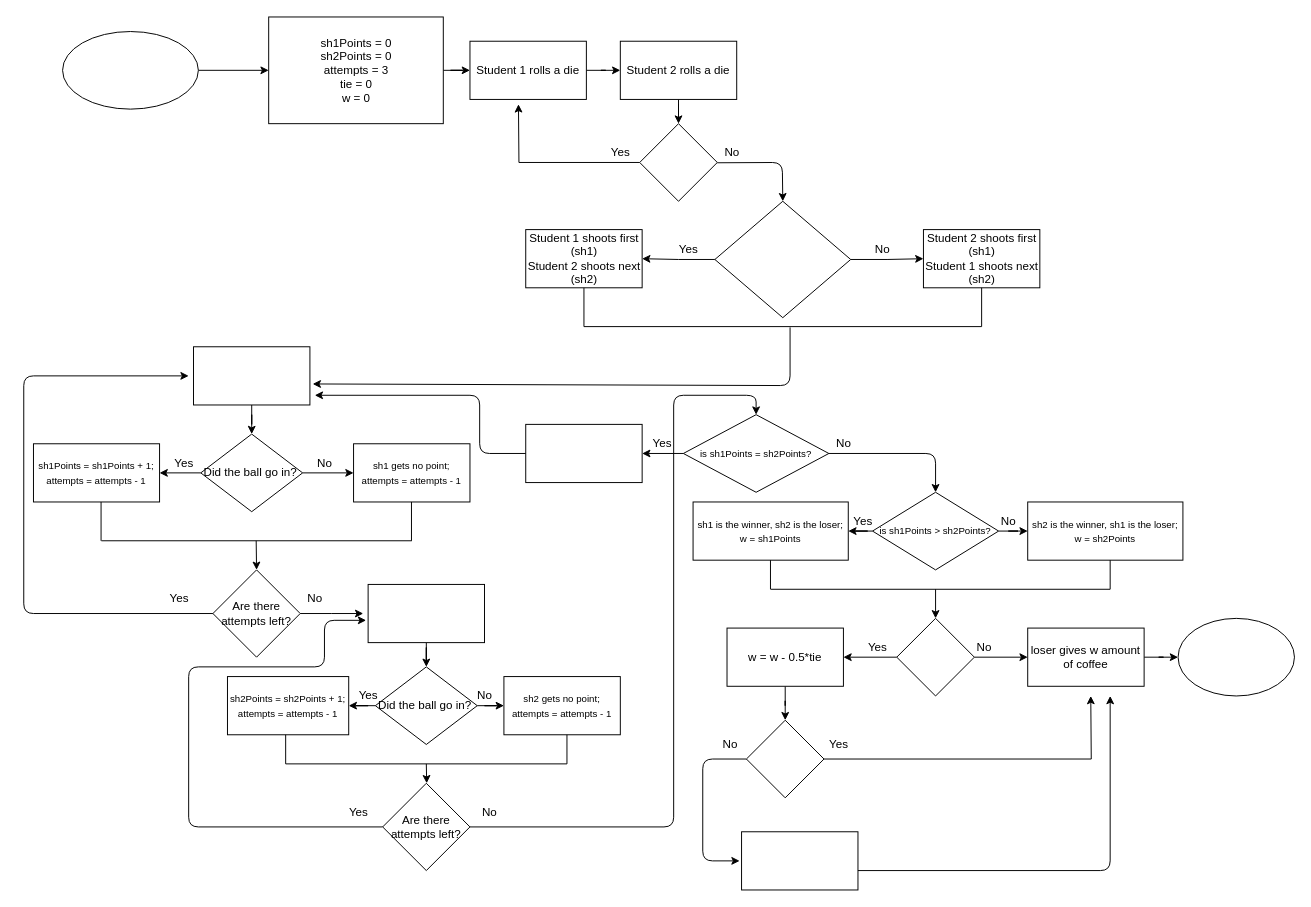
The diagram is 1311 pixels wide and 907 high, and some of its shapes have lost their labels. The centre of each missing label's shape, as x and y in pixels:
"Did Student 1 roll a lower number than Student 2?" goes at [782,259].
"END" goes at [1235,656].
"Is it a tie?" goes at [678,162].
"Is there a tie?tie >= 0" goes at [935,656].
"Is w a whole number?" goes at [784,758].
"Round up w into a whole number" goes at [799,860].
"sh1 throws the ball into the hoop" goes at [251,375].
"sh2 throws ball into the hoop" goes at [426,613].
"START" goes at [130,70].
"tie = tie + 1; sh1Points = 0; sh2Points = 0;" goes at [583,453].
